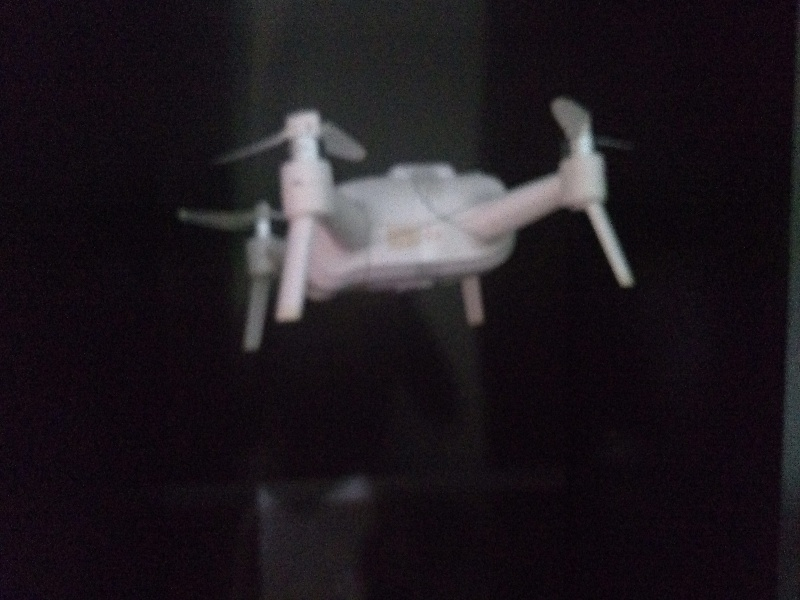drone: (190, 77, 649, 347)
